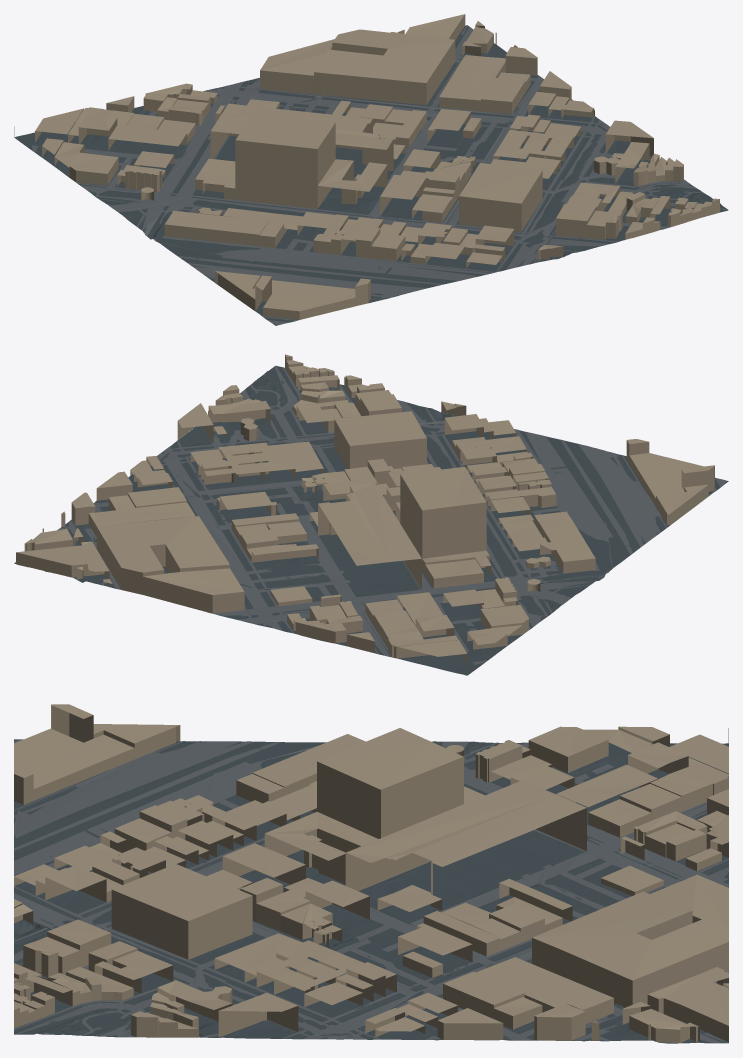
File: epsg26910-1440-10889.lod0.glb
3 renders of one model, top to bottom at view 1: azimuth 30°, elevation 25°; view 2: azimuth 150°, elevation 25°; view 3: azimuth 270°, elevation 25°, orthographic. The views are drawn at different scales.
Parts seen in each view (by area): view 1: epsg26910-1440-10889-lod0; view 2: epsg26910-1440-10889-lod0; view 3: epsg26910-1440-10889-lod0.
Boxes of the visible parts, left/top/right/bottom form: epsg26910-1440-10889-lod0: left=14, top=14, right=728, bottom=325; epsg26910-1440-10889-lod0: left=14, top=354, right=728, bottom=675; epsg26910-1440-10889-lod0: left=14, top=704, right=728, bottom=1043.
Size of the model in its own units: 384 by 51.31 by 384.
